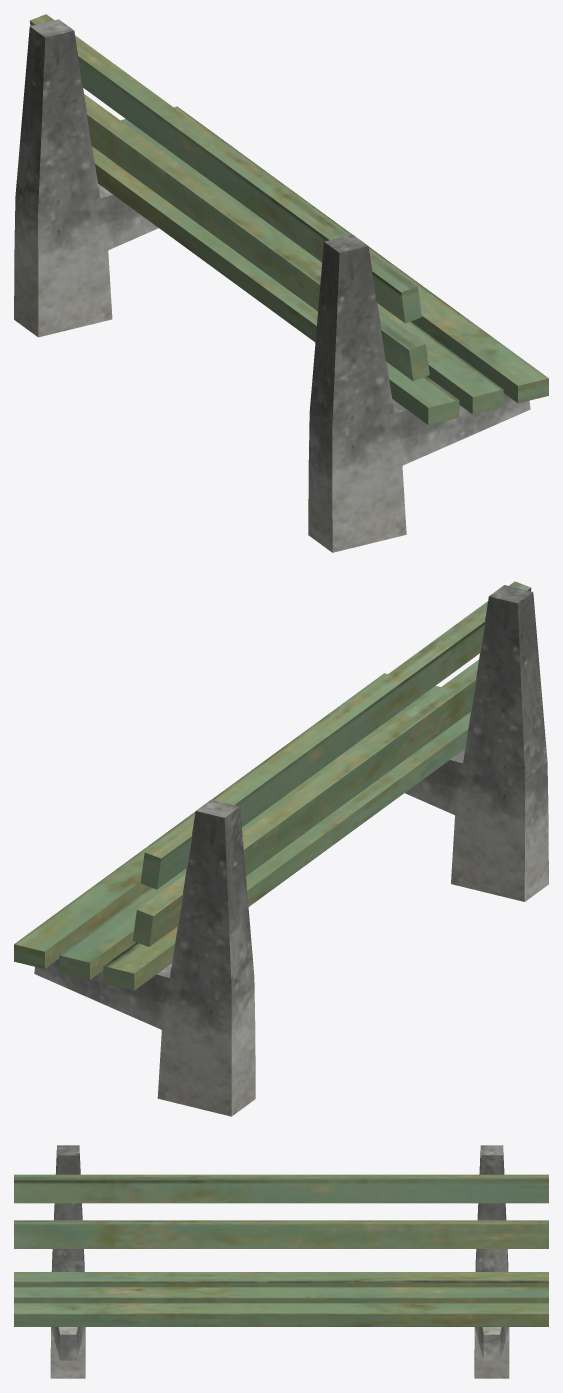
File: bench.fbx
3 renders of one model, top to bottom at view 1: azimuth 30°, elevation 25°; view 2: azimuth 150°, elevation 25°; view 3: azimuth 270°, elevation 25°, orthographic. The views are drawn at different scales.
Visible parts, largest first — view 1: bench; view 2: bench; view 3: bench.
Boxes of the visible parts, <box> form: bench: <box>14,14,548,552</box>; bench: <box>14,581,548,1116</box>; bench: <box>14,1145,548,1378</box>.
Size of the model in its own units: 80.16 by 110 by 252.
